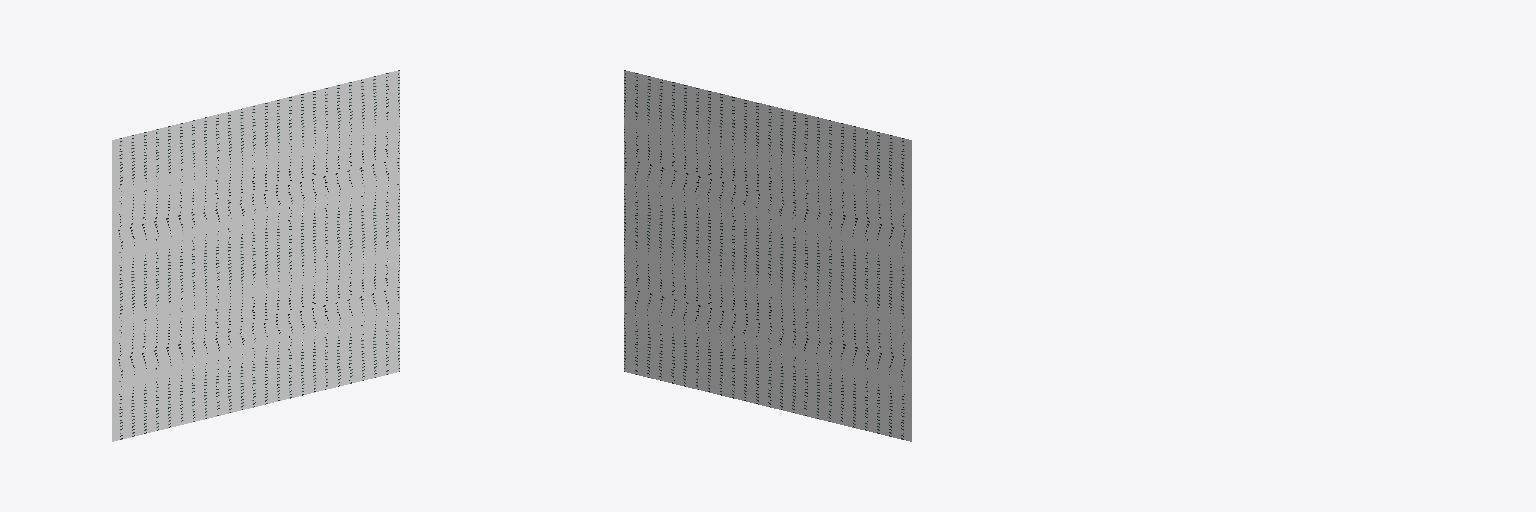
The picture shows the model from 3 angles: view 1: azimuth 30°, elevation 25°; view 2: azimuth 150°, elevation 25°; view 3: azimuth 270°, elevation 25°; orthographic projection.
Size of the model in its own units: 2 by 2 by 0.
Materials: 1 (1 with a texture image).